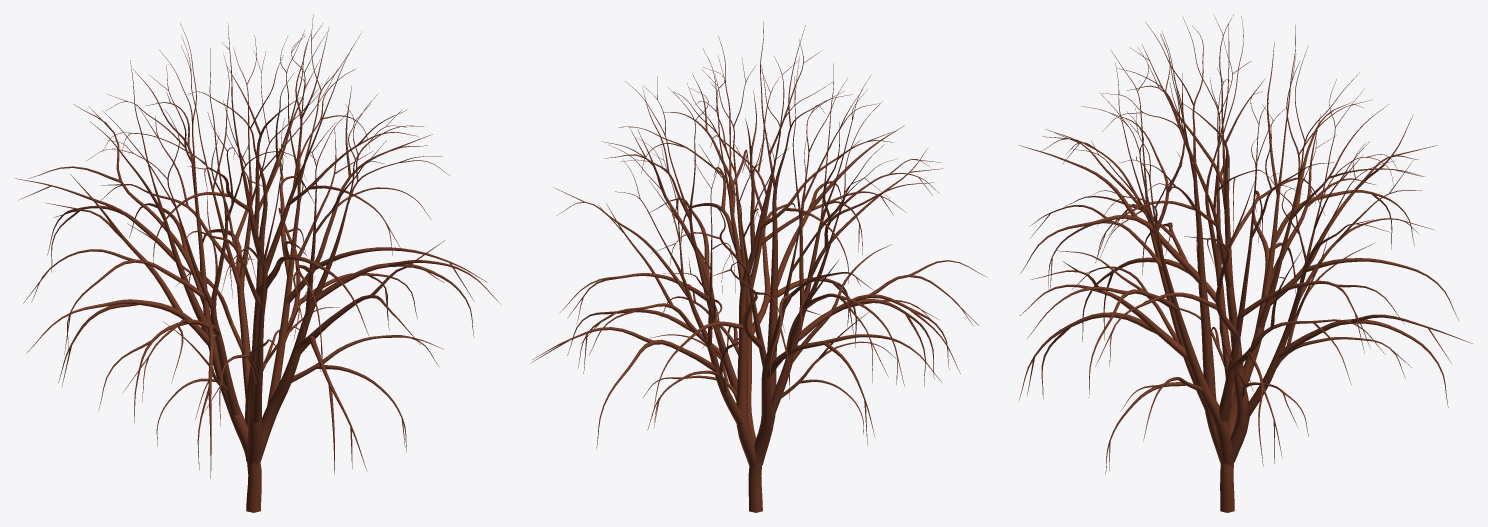
File: arbol1.fbx
The picture shows the model from 3 angles, left to right: view 1: azimuth 30°, elevation 25°; view 2: azimuth 150°, elevation 25°; view 3: azimuth 270°, elevation 25°; orthographic projection. The views are drawn at different scales.
Parts seen in each view (by area): view 1: tree.001; view 2: tree.001; view 3: tree.001.
Part boxes in pixels (bbox=[...]): tree.001: bbox=[14, 14, 501, 512]; tree.001: bbox=[530, 22, 986, 512]; tree.001: bbox=[1018, 14, 1472, 512].
Bounding box in the file's own units: 541 × 648 × 547.
